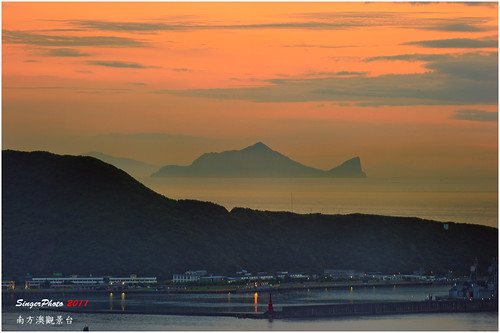turtleIsland: (156, 141, 369, 180)
